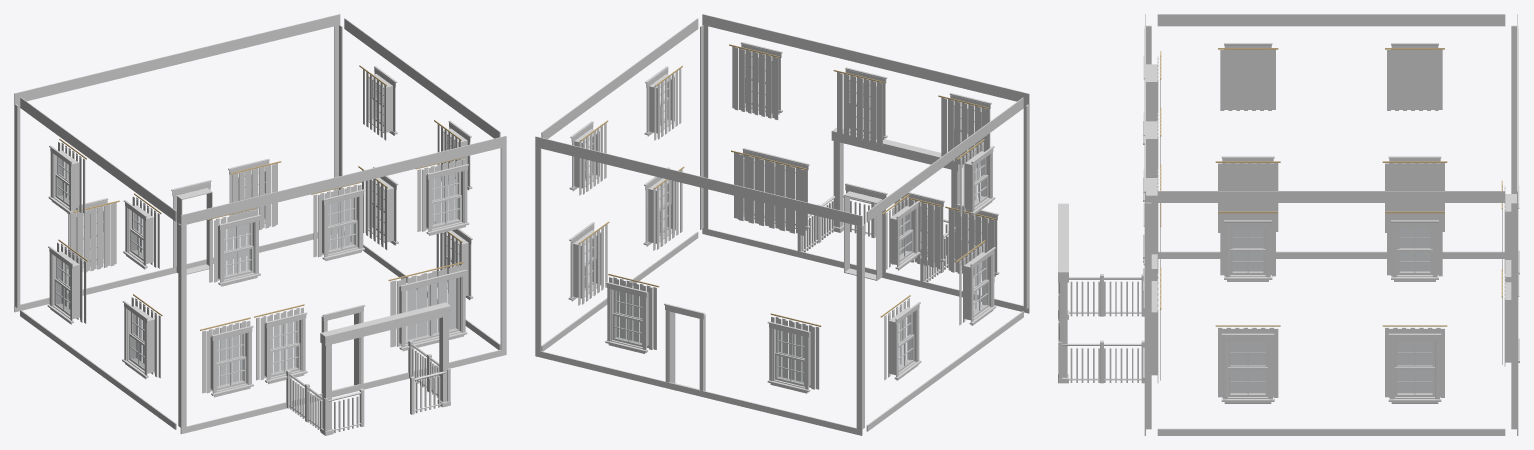
The model's file is SM_Town_House_Ash18_Trim.fbx.
3 views of the same model, side by side, from view 1: azimuth 30°, elevation 25°; view 2: azimuth 150°, elevation 25°; view 3: azimuth 270°, elevation 25° (orthographic). The views are drawn at different scales.
Visible parts, largest first — view 1: SM_Town_House_Ash18_Trim_1; view 2: SM_Town_House_Ash18_Trim_1; view 3: SM_Town_House_Ash18_Trim_1.
Part boxes in pixels (box(x1,y1,x2,y2)): SM_Town_House_Ash18_Trim_1: box(14, 14, 506, 435); SM_Town_House_Ash18_Trim_1: box(535, 14, 1029, 435); SM_Town_House_Ash18_Trim_1: box(1058, 14, 1519, 435).
Size of the model in its own units: 913 by 582 by 996.
